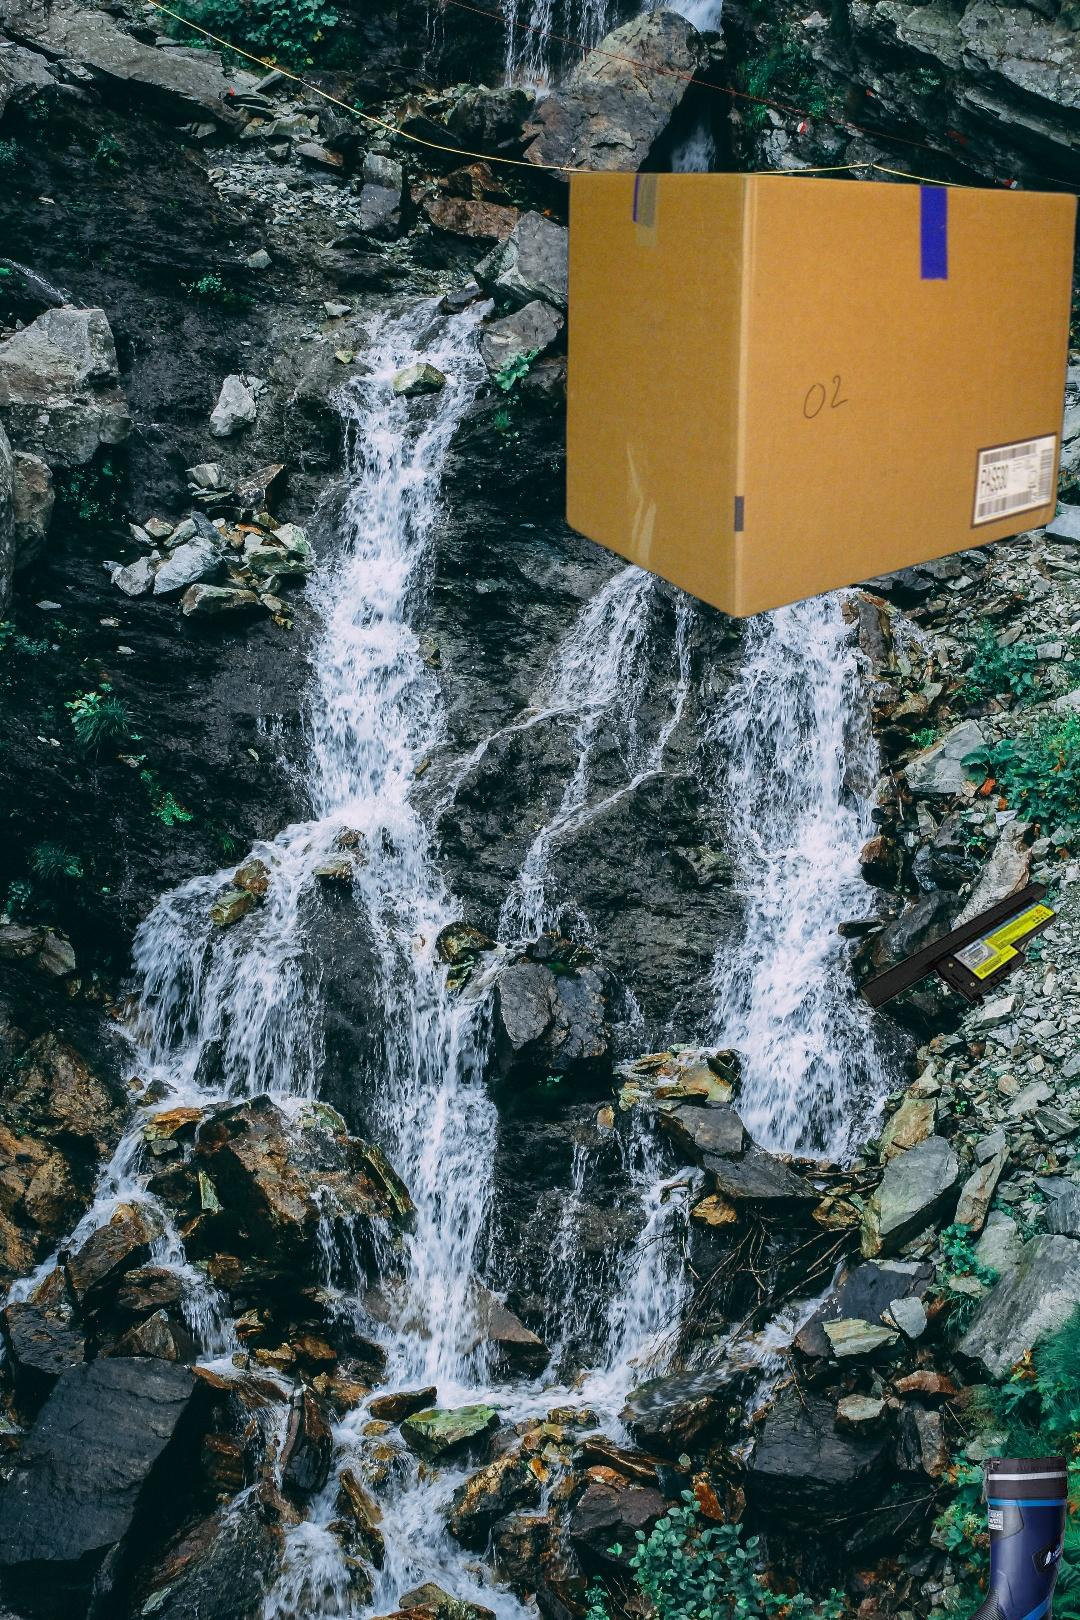battery: (859, 877, 1058, 1012)
shoes: (908, 1452, 1072, 1620)
trashbox-cardboard: (560, 165, 1080, 624)
